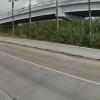Bridge: (3, 1, 95, 38)
